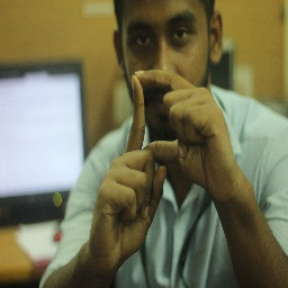D: (121, 66, 218, 187)
